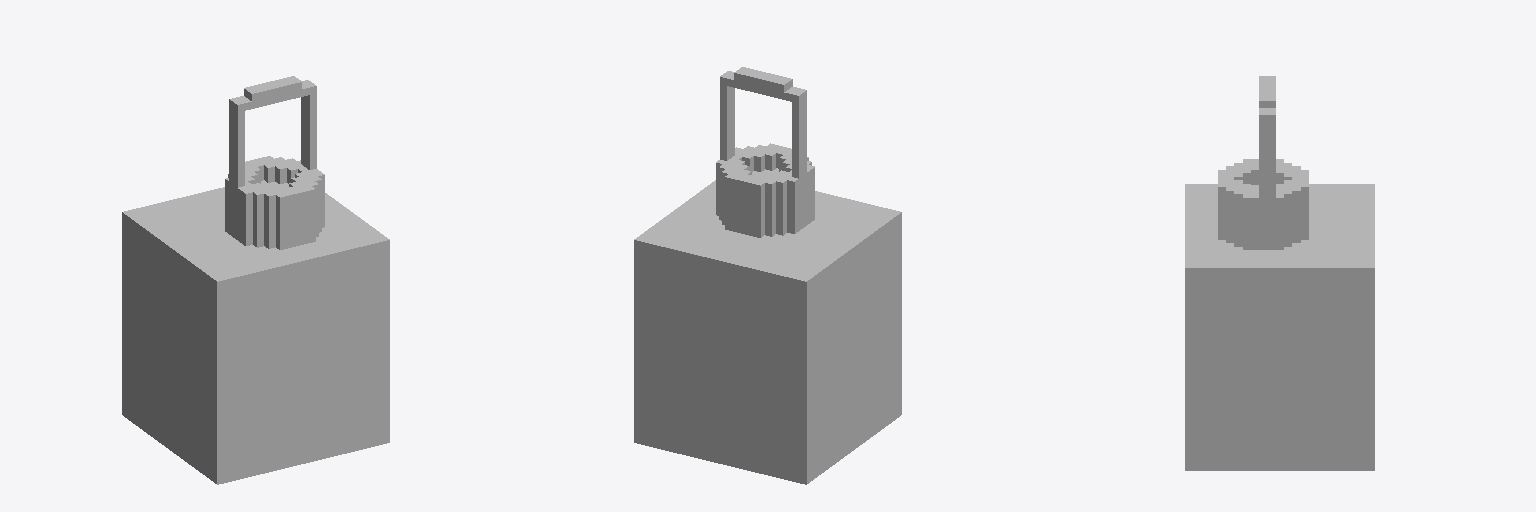
Rendered from tapak9 sumur.obj.
3 views of the same model, side by side, from view 1: azimuth 30°, elevation 25°; view 2: azimuth 150°, elevation 25°; view 3: azimuth 270°, elevation 25° (orthographic).
Size of the model in its own units: 24 by 46 by 23.